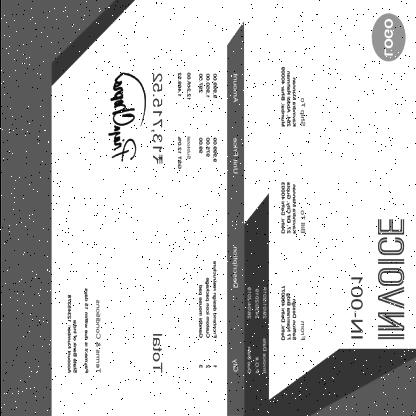Paragraph: (148, 70, 166, 378), (375, 214, 406, 344), (63, 284, 103, 377), (244, 284, 268, 376), (277, 63, 308, 131), (172, 70, 192, 172), (278, 284, 307, 346), (278, 179, 308, 237), (346, 274, 366, 342)
Table: (194, 70, 242, 375)
